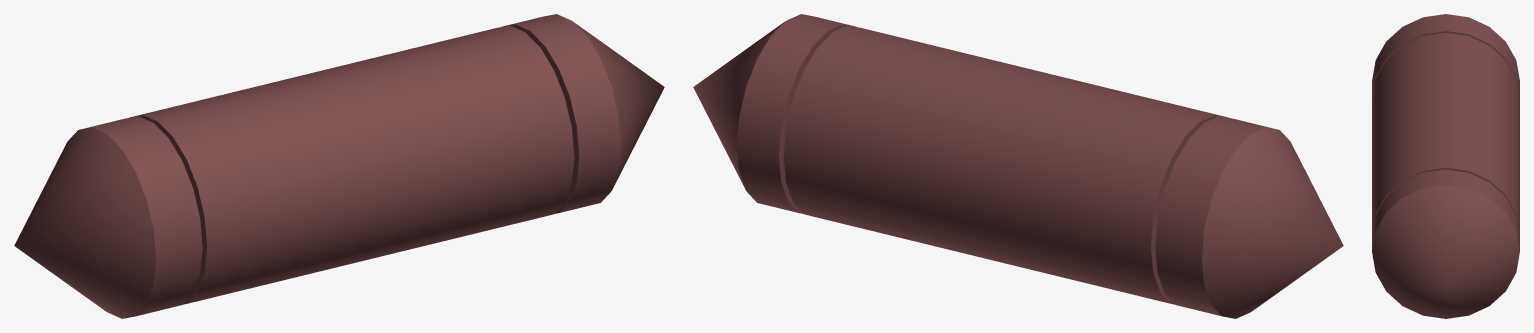
File: Level 2 Rolling Bomb.fbx
3 views of the same model, side by side, from view 1: azimuth 30°, elevation 25°; view 2: azimuth 150°, elevation 25°; view 3: azimuth 270°, elevation 25° (orthographic). The views are drawn at different scales.
Parts seen in each view (by area): view 1: pCylinder1; view 2: pCylinder1; view 3: pCylinder1.
Boxes of the visible parts, x1,y1,x2,y2 form: pCylinder1: (14,14,664,318); pCylinder1: (693,14,1343,318); pCylinder1: (1372,14,1519,318).
Size of the model in its own units: 13.78 by 3.6 by 3.6.
